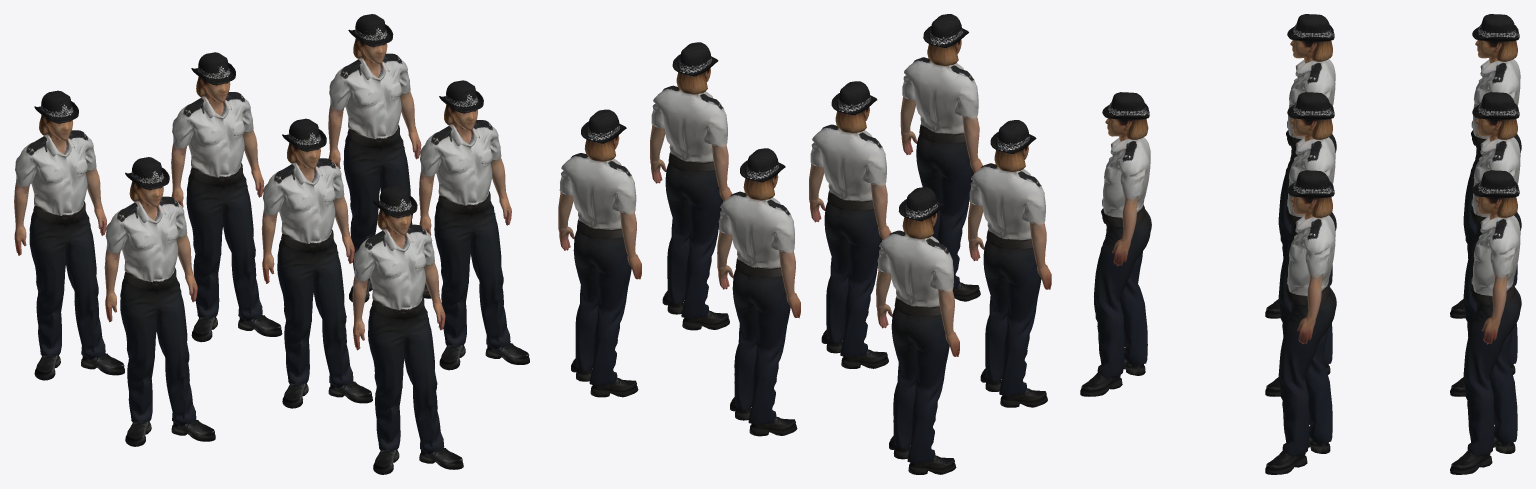
Rendered from parade_uk_idle.glb.
3 renders of one model, left to right at view 1: azimuth 30°, elevation 25°; view 2: azimuth 150°, elevation 25°; view 3: azimuth 270°, elevation 25°, orthographic.
Parts seen in each view (by area): view 1: tripo_node_d3e88224-d085-4138-aae1-9098a10b0020, tripo_node_d3e88224-d085-4138-aae1-9098a10b0020.006, tripo_node_d3e88224-d085-4138-aae1-9098a10b0020.003, tripo_node_d3e88224-d085-4138-aae1-9098a10b0020.001, tripo_node_d3e88224-d085-4138-aae1-9098a10b0020.004, tripo_node_d3e88224-d085-4138-aae1-9098a10b0020.002, tripo_node_d3e88224-d085-4138-aae1-9098a10b0020.005; view 2: tripo_node_d3e88224-d085-4138-aae1-9098a10b0020.003, tripo_node_d3e88224-d085-4138-aae1-9098a10b0020.004, tripo_node_d3e88224-d085-4138-aae1-9098a10b0020.005, tripo_node_d3e88224-d085-4138-aae1-9098a10b0020.006, tripo_node_d3e88224-d085-4138-aae1-9098a10b0020.002, tripo_node_d3e88224-d085-4138-aae1-9098a10b0020.001, tripo_node_d3e88224-d085-4138-aae1-9098a10b0020; view 3: tripo_node_d3e88224-d085-4138-aae1-9098a10b0020.002, tripo_node_d3e88224-d085-4138-aae1-9098a10b0020, tripo_node_d3e88224-d085-4138-aae1-9098a10b0020.005, tripo_node_d3e88224-d085-4138-aae1-9098a10b0020.004, tripo_node_d3e88224-d085-4138-aae1-9098a10b0020.001, tripo_node_d3e88224-d085-4138-aae1-9098a10b0020.006, tripo_node_d3e88224-d085-4138-aae1-9098a10b0020.003.
Boxes of the visible parts, x1,y1,x2,y2 form: tripo_node_d3e88224-d085-4138-aae1-9098a10b0020: [352, 185, 463, 474]; tripo_node_d3e88224-d085-4138-aae1-9098a10b0020.006: [14, 90, 124, 380]; tripo_node_d3e88224-d085-4138-aae1-9098a10b0020.003: [104, 157, 215, 446]; tripo_node_d3e88224-d085-4138-aae1-9098a10b0020.001: [261, 118, 372, 408]; tripo_node_d3e88224-d085-4138-aae1-9098a10b0020.004: [171, 52, 282, 342]; tripo_node_d3e88224-d085-4138-aae1-9098a10b0020.002: [419, 80, 529, 370]; tripo_node_d3e88224-d085-4138-aae1-9098a10b0020.005: [328, 14, 431, 302]; tripo_node_d3e88224-d085-4138-aae1-9098a10b0020.003: [968, 120, 1051, 407]; tripo_node_d3e88224-d085-4138-aae1-9098a10b0020.004: [717, 148, 800, 436]; tripo_node_d3e88224-d085-4138-aae1-9098a10b0020.005: [558, 109, 641, 397]; tripo_node_d3e88224-d085-4138-aae1-9098a10b0020.006: [876, 187, 959, 474]; tripo_node_d3e88224-d085-4138-aae1-9098a10b0020.002: [650, 42, 732, 330]; tripo_node_d3e88224-d085-4138-aae1-9098a10b0020.001: [809, 81, 891, 368]; tripo_node_d3e88224-d085-4138-aae1-9098a10b0020: [900, 14, 982, 301]; tripo_node_d3e88224-d085-4138-aae1-9098a10b0020.002: [1265, 170, 1336, 474]; tripo_node_d3e88224-d085-4138-aae1-9098a10b0020: [1080, 92, 1151, 396]; tripo_node_d3e88224-d085-4138-aae1-9098a10b0020.005: [1450, 170, 1521, 474]; tripo_node_d3e88224-d085-4138-aae1-9098a10b0020.004: [1450, 92, 1521, 396]; tripo_node_d3e88224-d085-4138-aae1-9098a10b0020.001: [1265, 92, 1336, 396]; tripo_node_d3e88224-d085-4138-aae1-9098a10b0020.006: [1450, 14, 1521, 318]; tripo_node_d3e88224-d085-4138-aae1-9098a10b0020.003: [1265, 14, 1336, 318].
Bounding box in the file's own units: 1.53 × 1 × 1.43.
1 material, 1 textured.
